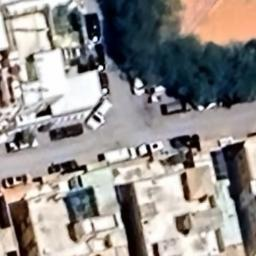SUV: (87, 96, 115, 134)
